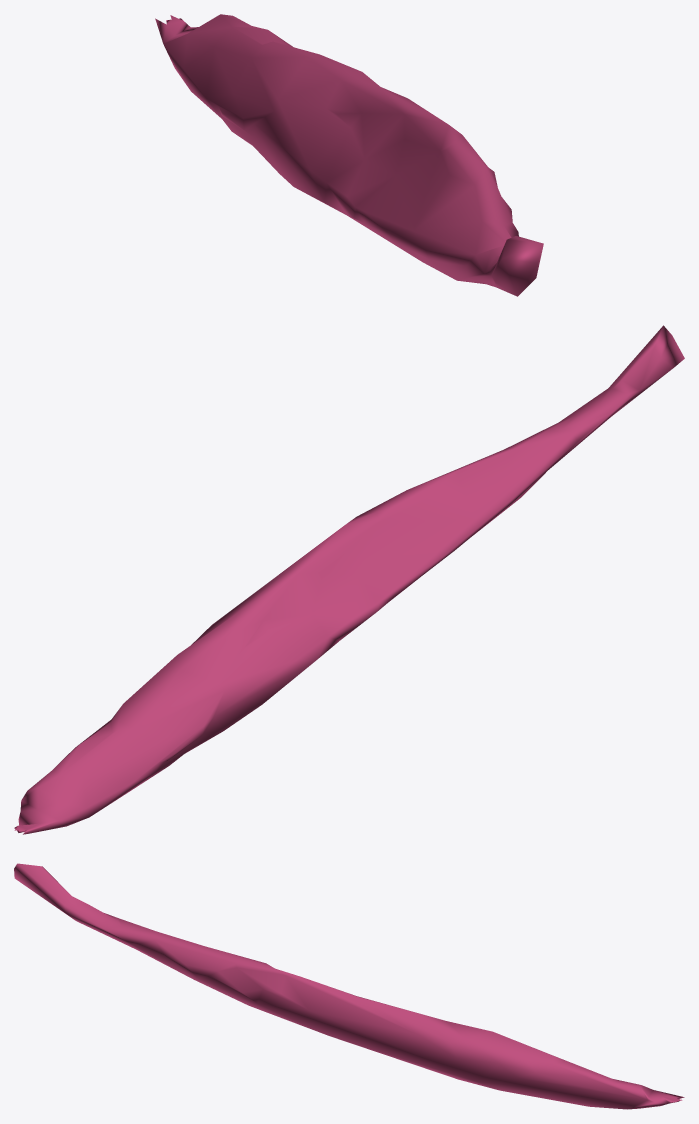
3 views of the same model, one above another, from view 1: azimuth 30°, elevation 25°; view 2: azimuth 150°, elevation 25°; view 3: azimuth 270°, elevation 25° (orthographic). The views are drawn at different scales.
Parts seen in each view (by area): view 1: 右侧小指短屈肌; view 2: 右侧小指短屈肌; view 3: 右侧小指短屈肌.
Boxes of the visible parts, left/top/right/bottom form: 右侧小指短屈肌: left=155, top=14, right=543, bottom=296; 右侧小指短屈肌: left=14, top=325, right=684, bottom=834; 右侧小指短屈肌: left=14, top=863, right=684, bottom=1109.
Size of the model in its own units: 0.0274 by 0.0269 by 0.0912.
